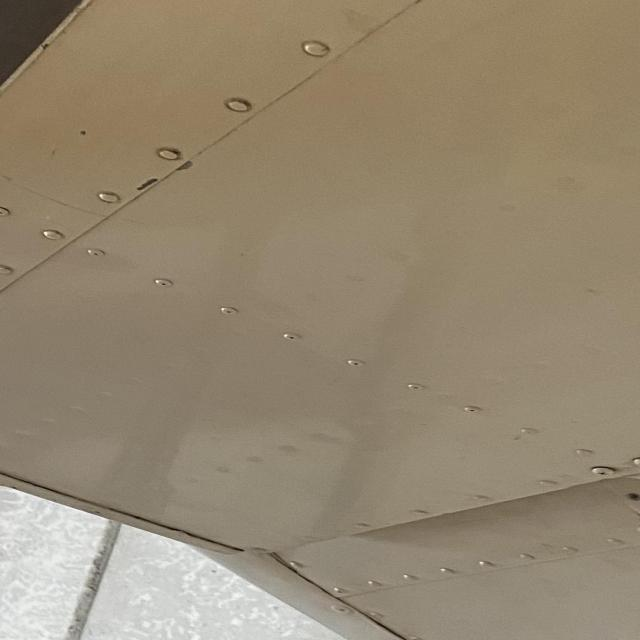Missing-head: (627, 493, 640, 503)
Paint-off: (132, 169, 171, 196)
